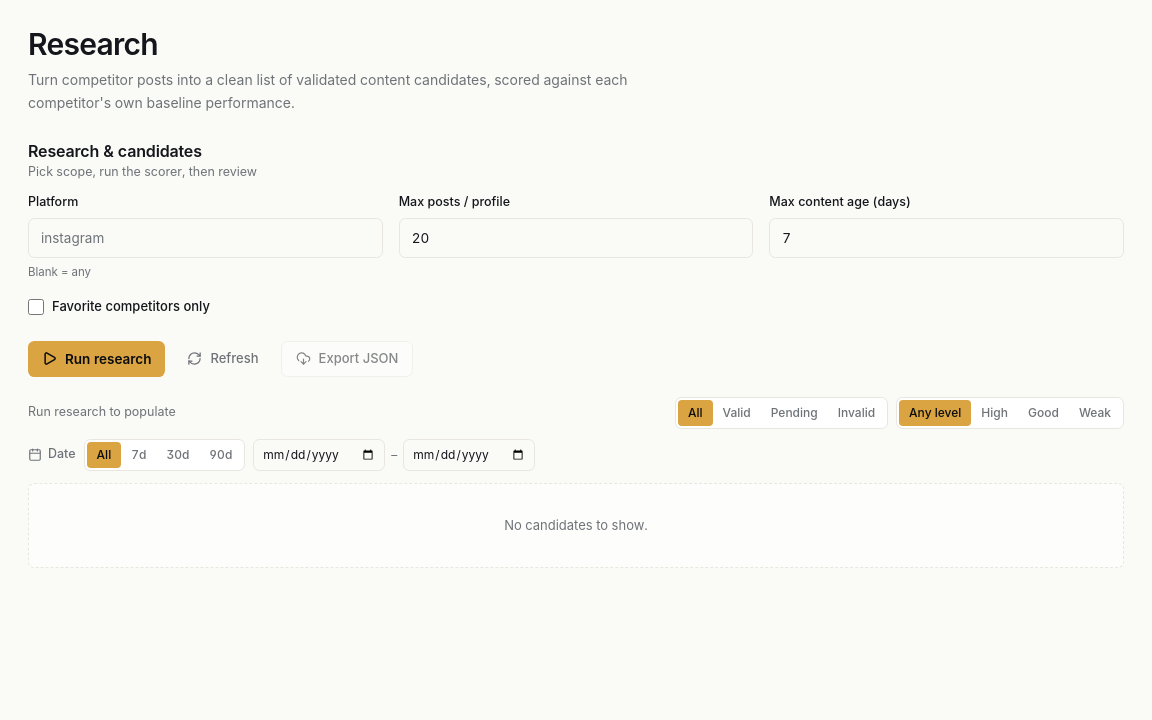
Scenario: <ResearchPage> › runs research and renders scored candidates
Click the button "Run research": point(97, 359) [28, 341, 166, 377]
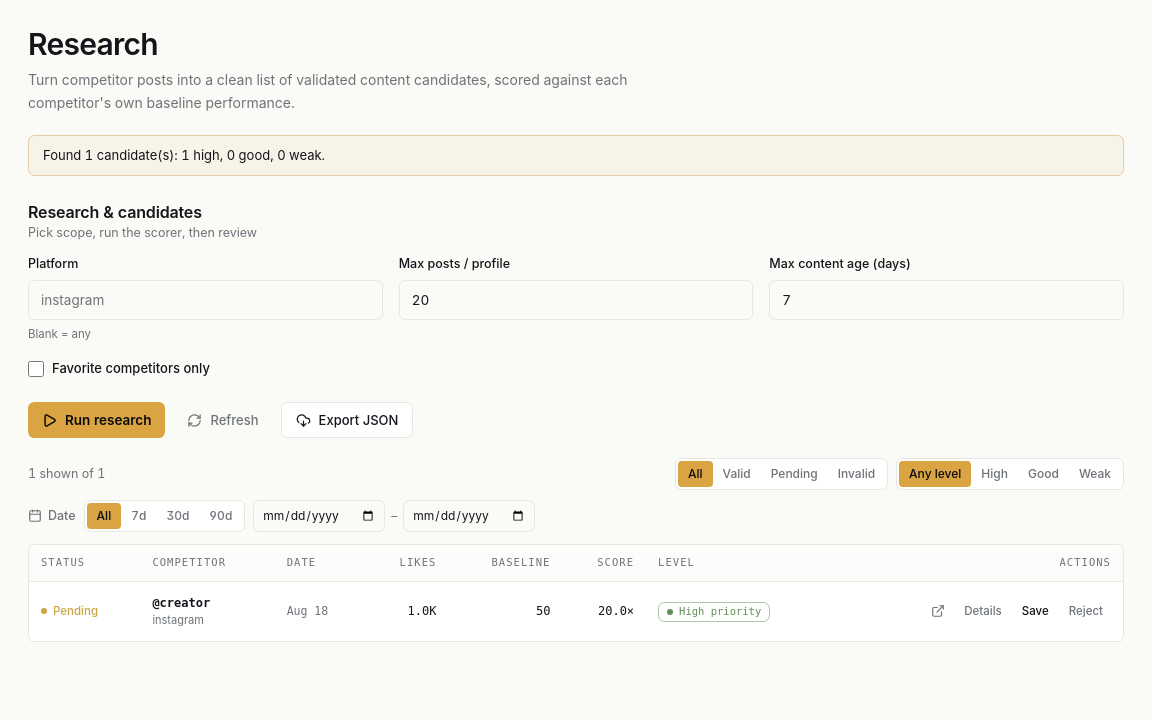
expect the text "20.0×" is shown: met, box [562, 582, 646, 640]
expect the text "High priority" is shown: met, box [658, 602, 770, 622]
